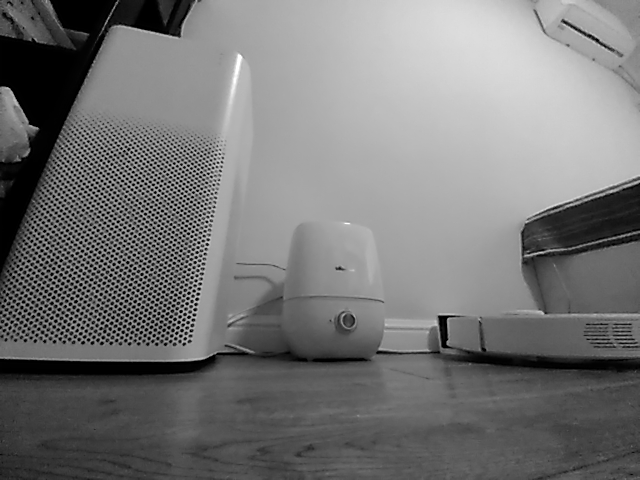wire: (220, 293, 287, 360)
